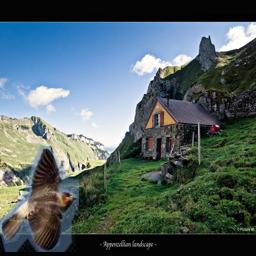Swallow: (0, 146, 79, 252)
